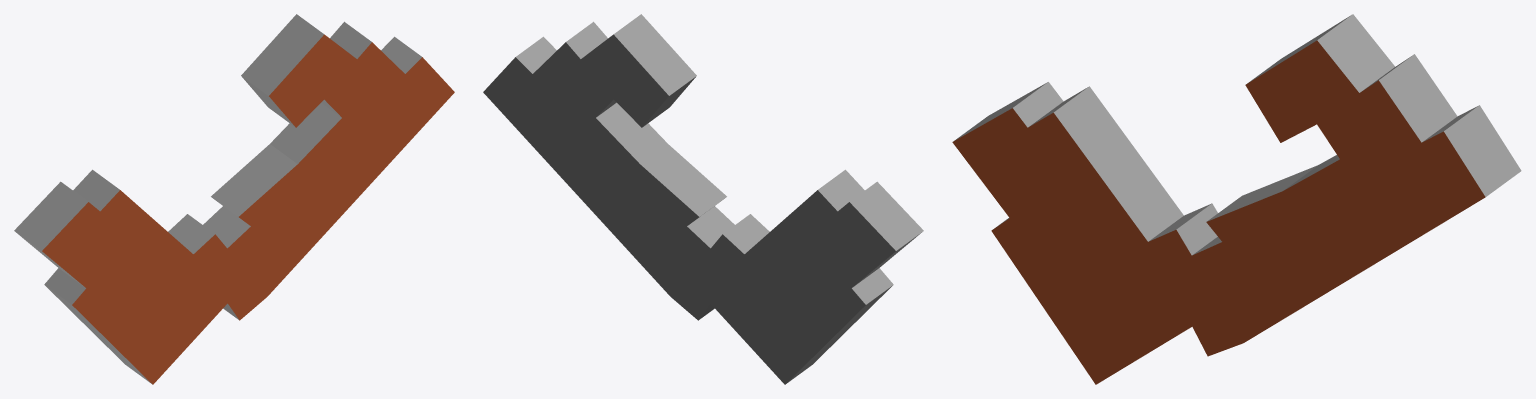
Rendered from construction_1813_assumed_A_Casa_h6m.obj.
3 renders of one model, left to right at view 1: azimuth 30°, elevation 25°; view 2: azimuth 150°, elevation 25°; view 3: azimuth 330°, elevation 25°, orthographic. The views are drawn at different scales.
Visible parts, largest first — view 1: construction_1813_assumed_A_Casa; view 2: construction_1813_assumed_A_Casa; view 3: construction_1813_assumed_A_Casa.
Boxes of the visible parts, bbox=[...] form: construction_1813_assumed_A_Casa: bbox=[14, 14, 454, 384]; construction_1813_assumed_A_Casa: bbox=[483, 14, 923, 384]; construction_1813_assumed_A_Casa: bbox=[952, 14, 1521, 384].
Bounding box in the file's own units: 51.37 × 36.69 × 6.
